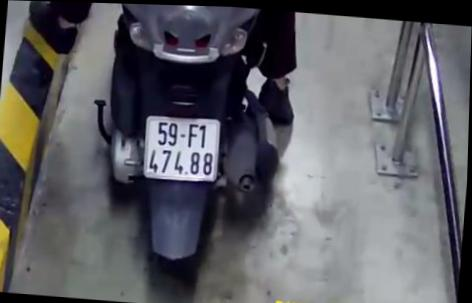LP: (138, 107, 226, 183)
